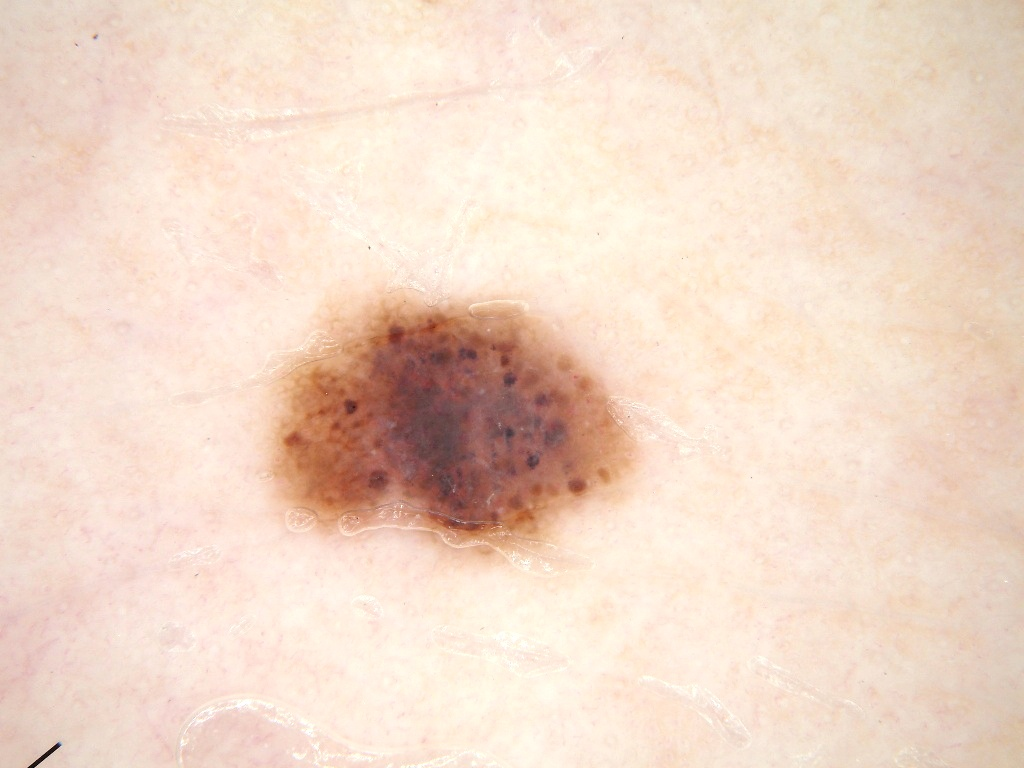Detected Lesion: (263, 299, 645, 562)
